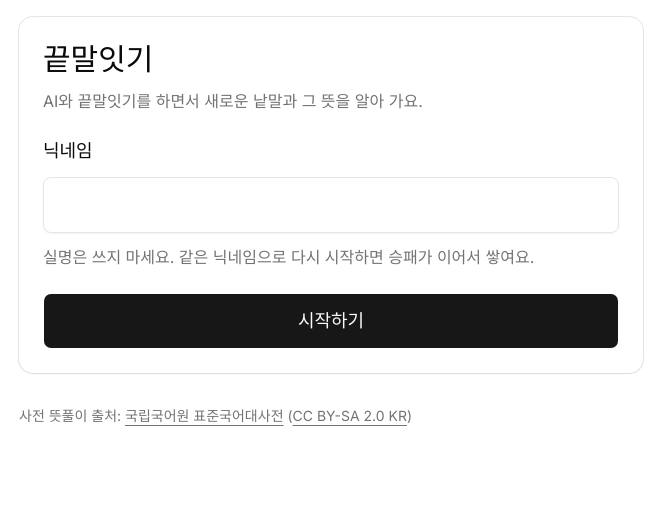
Test: 사전으로 단어 확인 › 확인하는 동안 남은 시간이 멈췄다가 끝나면 이어서 흐른다
In the field labelled "닉네임": (331, 205) [43,177,619,233], type "하늘"
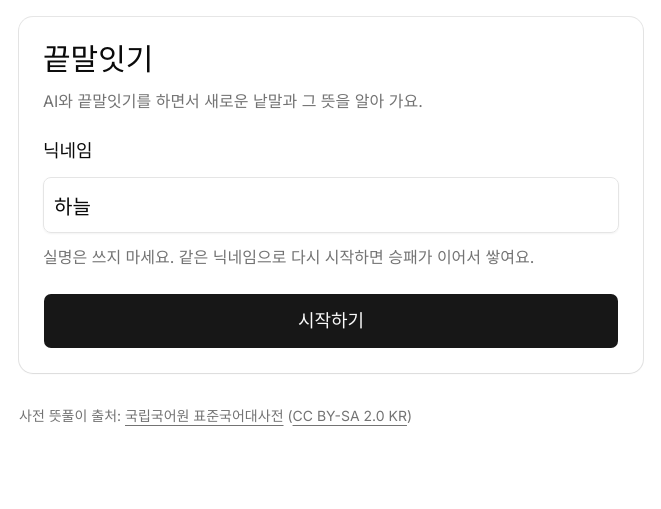
Click the button "시작하기": (331, 321) [43,293,619,349]
Wait 5000 ms
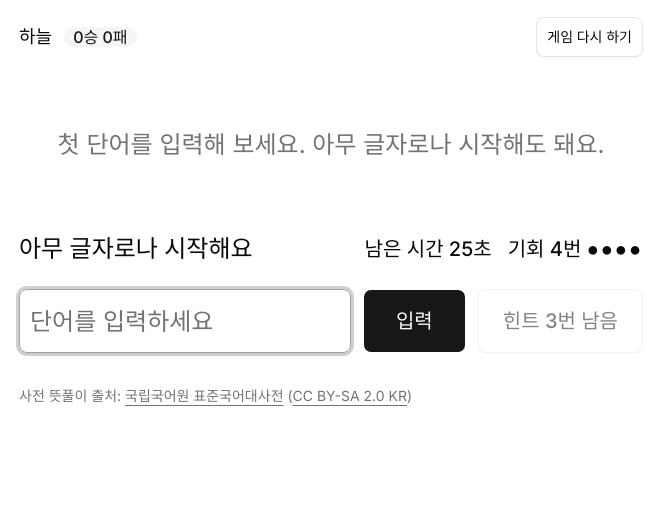
Check: the text "남은 시간 25초" is shown, box [365,235,492,263]
In the field named "단어 입력": (185, 321) [19,289,351,353], type "사자"
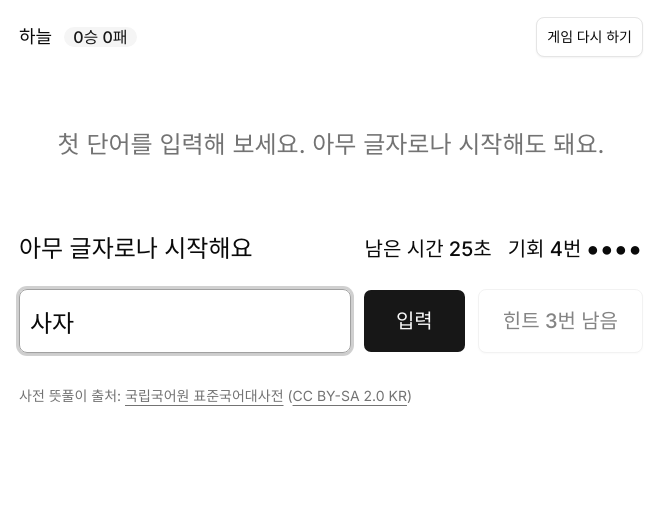
Click the button "입력": (414, 321) [363,289,466,353]
Wait 41000 ms
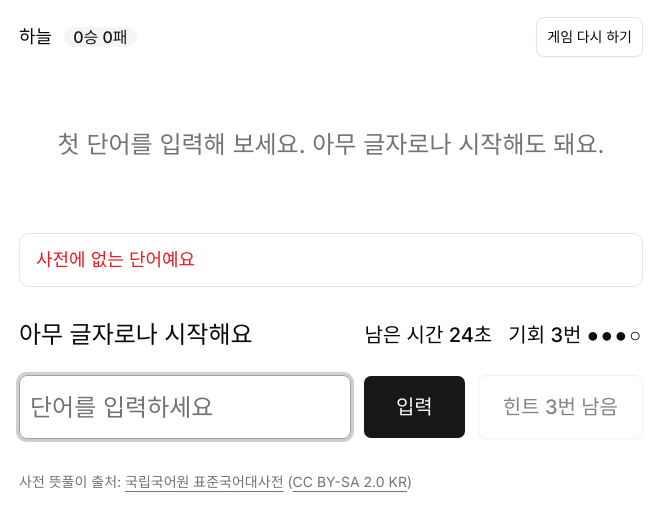
Check: the text "기회 4번" is shown, box [508,321,643,349]
Check: the text "남은 시간 24초" is shown, box [364,321,492,349]
